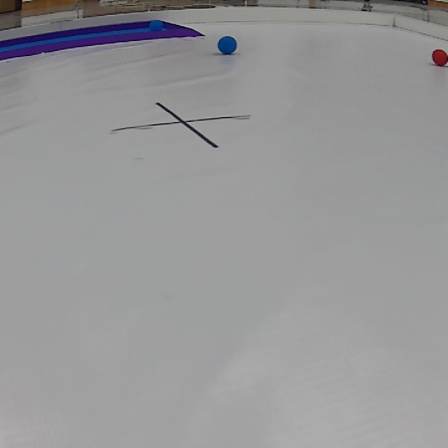blue: (217, 34, 240, 54), (149, 19, 165, 31)
blue_aim: (0, 19, 207, 59)
red: (429, 47, 448, 66)
